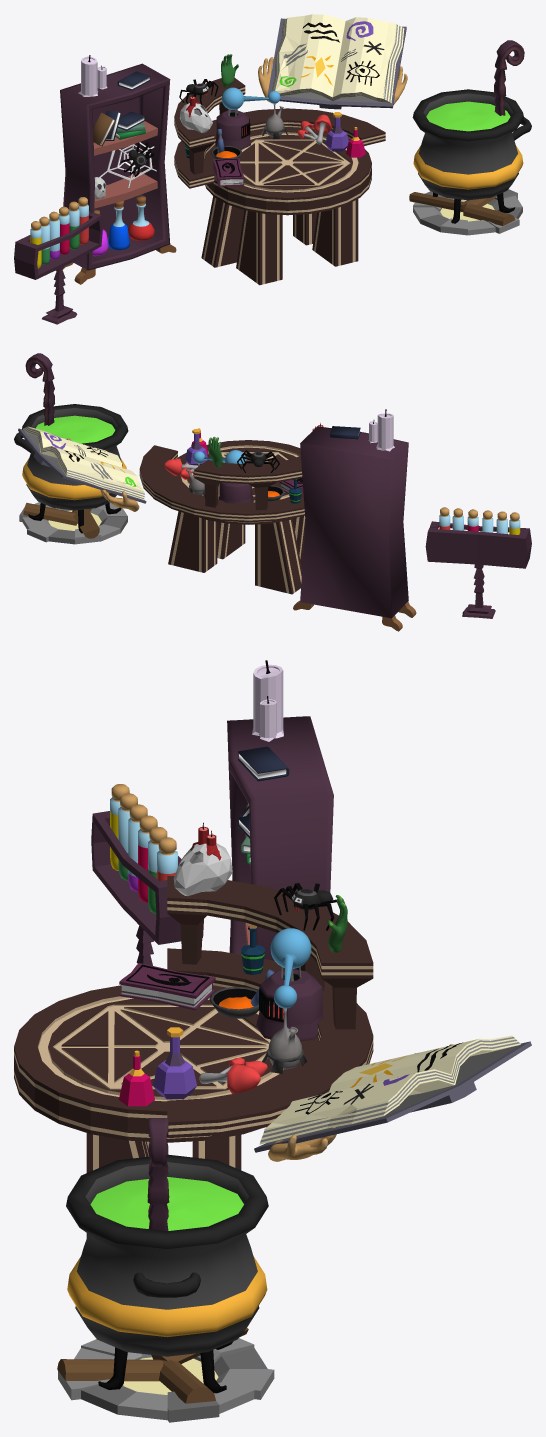
Rendered from CraftTable.fbx.
3 renders of one model, top to bottom at view 1: azimuth 30°, elevation 25°; view 2: azimuth 150°, elevation 25°; view 3: azimuth 270°, elevation 25°, orthographic. The views are drawn at different scales.
Parts seen in each view (by area): view 1: CraftTable, Raf, Kazan, Hand.001, Potluk, Kazan(Parlak), BuyuKaynatma, Kepce, Skull, Book1, BuyuKaynatma(Cam), Potion_2(Parlak) (+4 smaller); view 2: Raf, CraftTable, Kazan, Hand.001, Potluk, Kazan(Parlak), Kepce, BuyuKaynatma, Spider.001, BuyuKaynatma(Cam), Hand; view 3: CraftTable, Kazan, Raf, Hand.001, Kazan(Parlak), Potluk, BuyuKaynatma, Book1, Skull, Kepce, BuyuKaynatma(Cam), 2(Parlak) (+4 smaller).
Boxes of the visible parts, x1,y1,x2,y2 form: CraftTable: [174, 78, 385, 285]; Raf: [55, 55, 176, 284]; Kazan: [409, 89, 531, 235]; Hand.001: [258, 14, 407, 109]; Potluk: [14, 211, 102, 324]; Kazan(Parlak): [426, 101, 510, 131]; BuyuKaynatma: [215, 103, 287, 149]; Kepce: [494, 40, 524, 115]; Skull: [179, 94, 212, 133]; Book1: [213, 158, 244, 186]; BuyuKaynatma(Cam): [221, 87, 280, 109]; Potion_2(Parlak): [108, 224, 129, 250]; Raf: [293, 409, 416, 631]; CraftTable: [139, 440, 305, 594]; Kazan: [14, 404, 128, 544]; Hand.001: [18, 426, 146, 511]; Potluk: [425, 521, 531, 618]; Kazan(Parlak): [35, 415, 115, 443]; Kepce: [25, 353, 54, 425]; BuyuKaynatma: [186, 463, 253, 503]; Spider.001: [237, 450, 279, 472]; BuyuKaynatma(Cam): [193, 450, 246, 463]; Hand: [208, 436, 222, 466]; CraftTable: [14, 876, 373, 1237]; Kazan: [57, 1154, 274, 1422]; Raf: [227, 660, 333, 961]; Hand.001: [254, 1035, 531, 1161]; Kazan(Parlak): [90, 1177, 243, 1230]; Potluk: [91, 811, 203, 965]; BuyuKaynatma: [256, 967, 323, 1073]; Book1: [119, 963, 215, 1010]; Skull: [173, 822, 232, 895]; Kepce: [147, 1118, 169, 1231]; BuyuKaynatma(Cam): [270, 928, 311, 1008]; 2(Parlak): [153, 1037, 196, 1099].
Size of the model in its own units: 11.66 by 4.76 by 5.5.
1 material, 1 textured.
